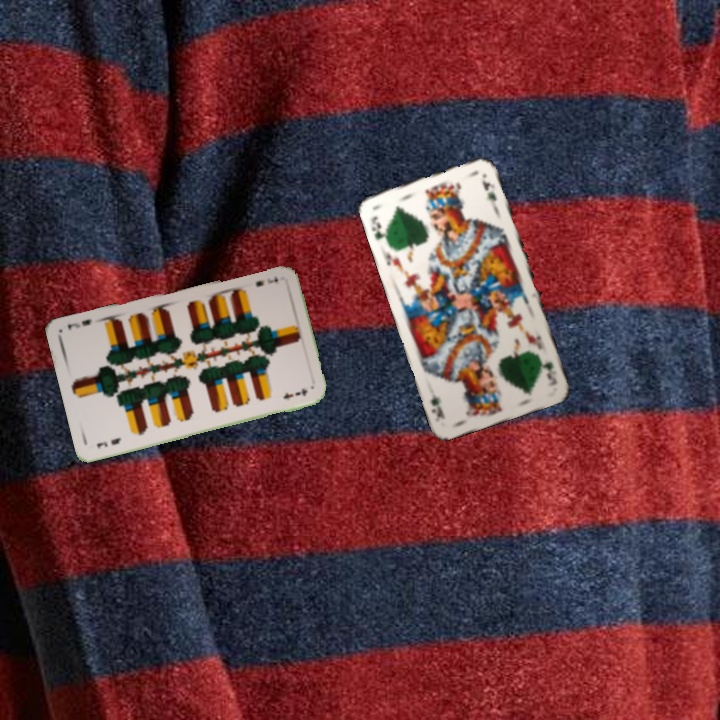E7: (93, 434, 124, 451), (252, 272, 280, 289)
GK: (367, 212, 390, 245), (539, 357, 560, 388)
